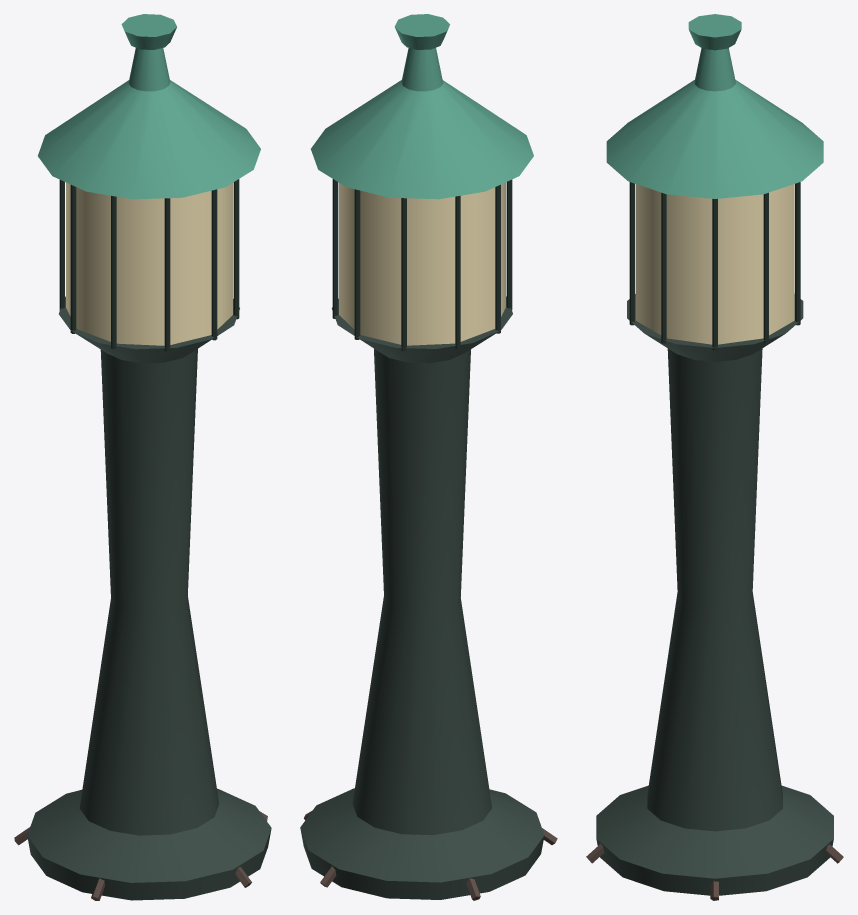
The model's file is founders_lantern.glb.
3 views of the same model, side by side, from view 1: azimuth 30°, elevation 25°; view 2: azimuth 150°, elevation 25°; view 3: azimuth 270°, elevation 25° (orthographic).
Parts seen in each view (by area): view 1: founders_lantern; view 2: founders_lantern; view 3: founders_lantern.
Part boxes in pixels (left/top/right/bottom): founders_lantern: left=14, top=14, right=271, bottom=900; founders_lantern: left=300, top=14, right=557, bottom=900; founders_lantern: left=586, top=14, right=843, bottom=900.
Bounding box in the file's own units: 7.38 × 26 × 7.4.
